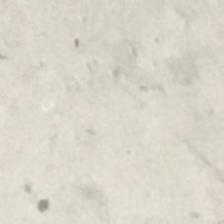Non_Crack: (31, 27, 206, 224)
